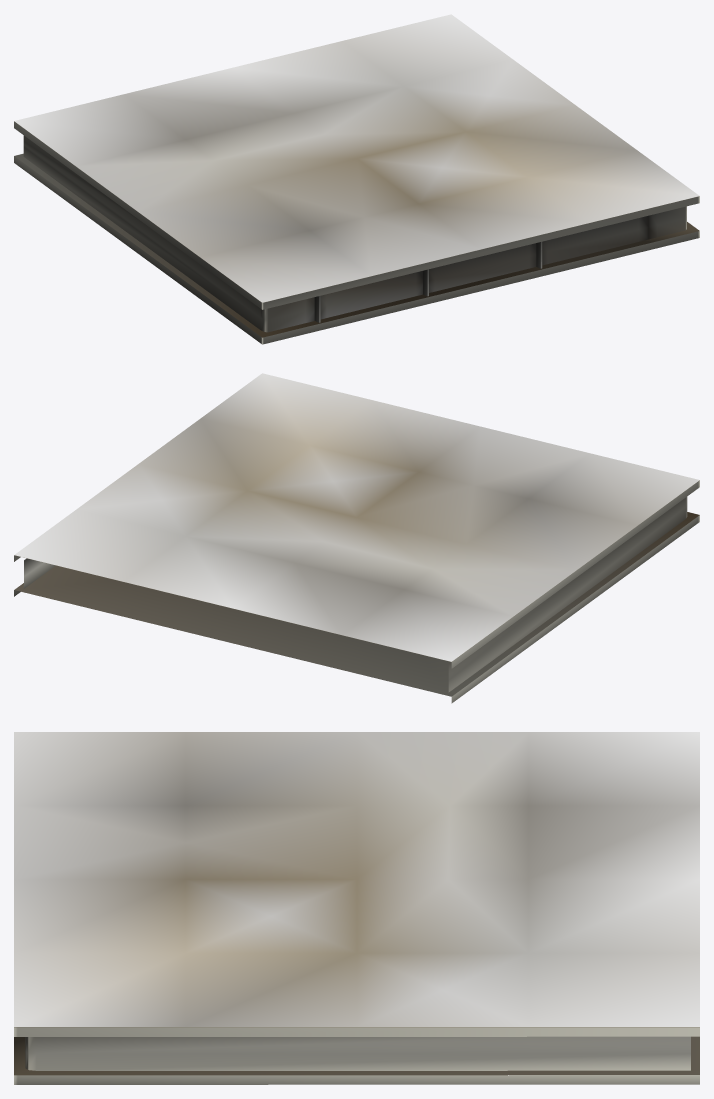
The model's file is Steelbeams.fbx.
3 renders of one model, top to bottom at view 1: azimuth 30°, elevation 25°; view 2: azimuth 150°, elevation 25°; view 3: azimuth 270°, elevation 25°, orthographic. The views are drawn at different scales.
Parts seen in each view (by area): view 1: Steelbeams_01; view 2: Steelbeams_01; view 3: Steelbeams_01.
Part boxes in pixels (x1,y1,x2,y2): Steelbeams_01: (14,14,699,344); Steelbeams_01: (14,373,699,703); Steelbeams_01: (14,732,699,1084).
Size of the model in its own units: 1274 by 116 by 1253.
